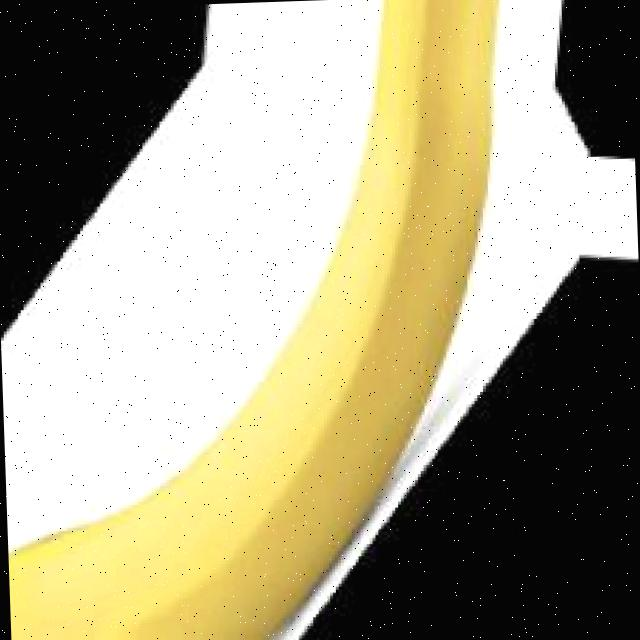banana: (0, 6, 520, 640)
